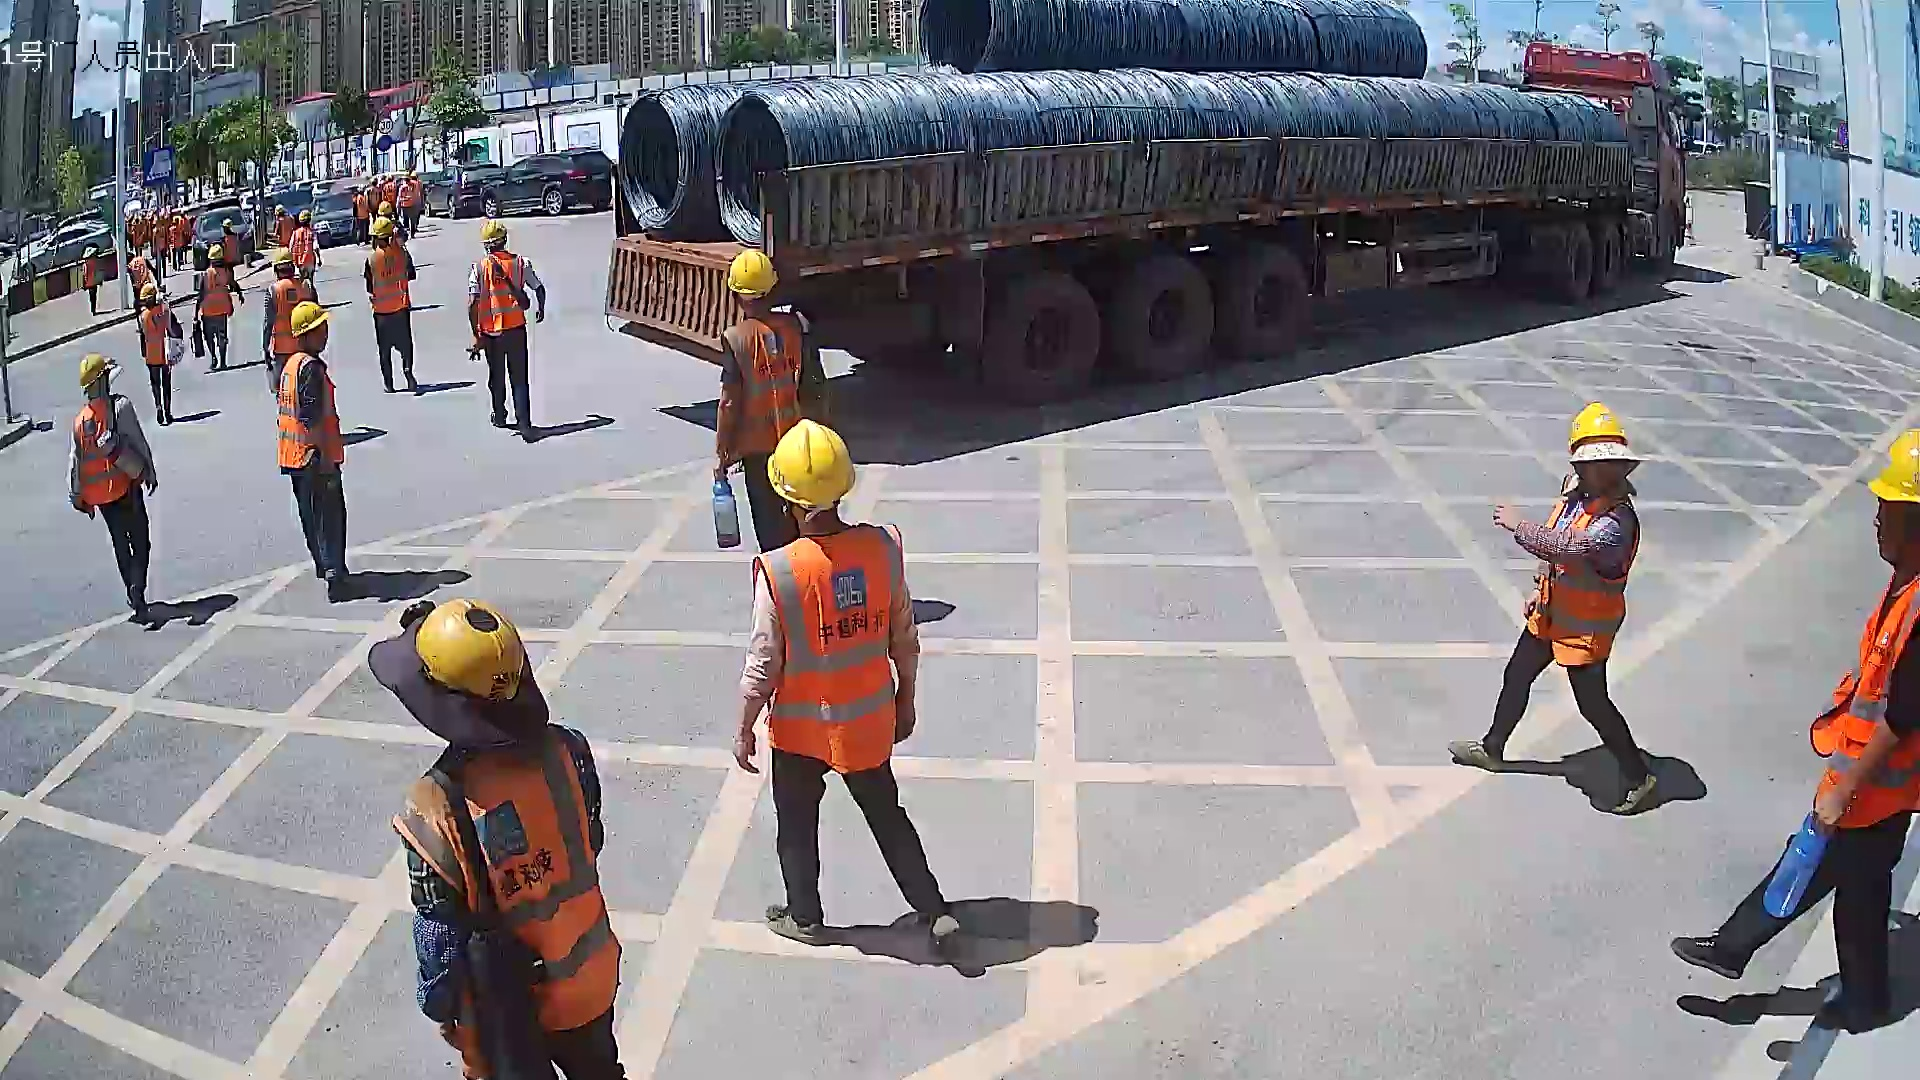person: (1668, 425, 1920, 1033), (726, 413, 970, 966), (365, 590, 635, 1080), (1444, 402, 1670, 817), (710, 243, 826, 554), (274, 298, 371, 603), (61, 350, 159, 625), (463, 215, 548, 443), (361, 214, 421, 396), (263, 243, 318, 400), (135, 281, 185, 424), (192, 241, 247, 373), (289, 206, 325, 279)
reflective_vest: (389, 724, 626, 1034), (750, 520, 906, 775), (1805, 570, 1920, 835), (1522, 488, 1643, 669), (716, 314, 807, 463), (275, 350, 346, 471), (70, 394, 132, 507), (472, 250, 528, 333), (364, 244, 414, 315), (269, 277, 310, 353), (136, 305, 174, 364), (199, 266, 236, 317), (289, 226, 317, 267)
safety_helmet: (407, 593, 518, 751), (764, 413, 856, 538), (1867, 427, 1920, 570), (1561, 402, 1639, 491), (725, 244, 780, 319), (290, 298, 332, 354), (78, 350, 113, 398), (479, 215, 510, 253), (368, 215, 396, 249), (269, 244, 296, 280), (138, 282, 158, 308), (206, 241, 224, 265), (296, 208, 313, 228)
